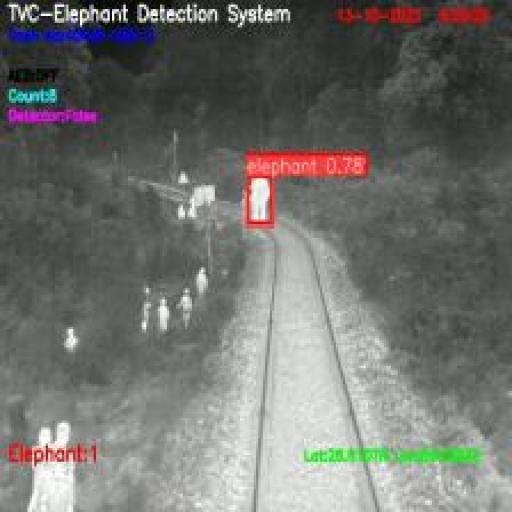Elephant: (247, 174, 273, 226)
